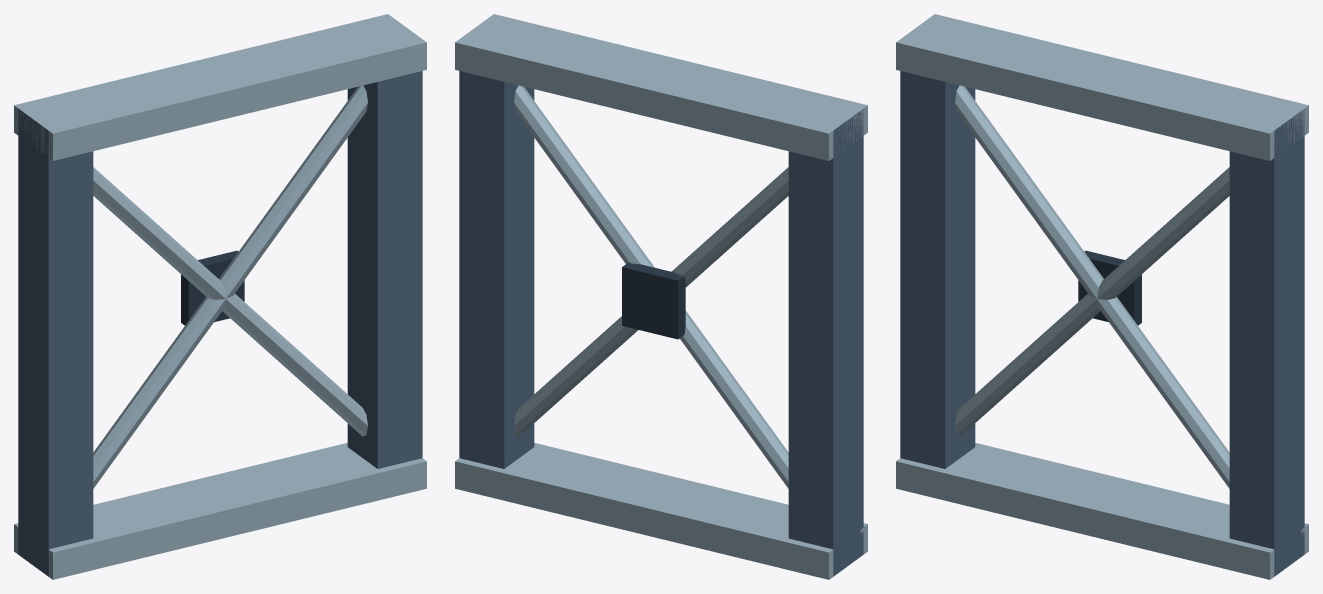
Rendered from elevator_support_brace.glb.
3 views of the same model, side by side, from view 1: azimuth 30°, elevation 25°; view 2: azimuth 150°, elevation 25°; view 3: azimuth 330°, elevation 25° (orthographic).
Parts seen in each view (by area): view 1: elevator_support_brace; view 2: elevator_support_brace; view 3: elevator_support_brace.
Boxes of the visible parts, x1=… form: elevator_support_brace: x1=14, y1=14, x2=426, y2=579; elevator_support_brace: x1=455, y1=14, x2=867, y2=579; elevator_support_brace: x1=896, y1=14, x2=1308, y2=579.
Size of the model in its own units: 2 by 2.28 by 0.36.
